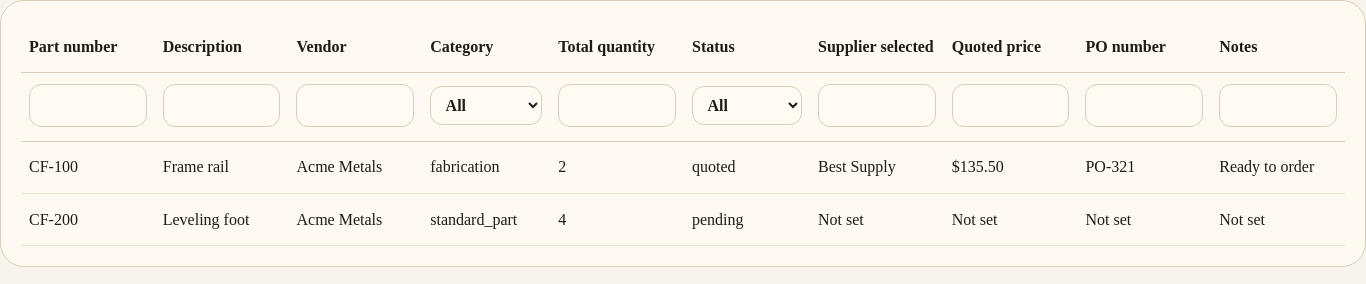
renders purchasing workflow fields and header filters directly in the table
Expected: the column heading "Status" is shown, [684,21,810,73]
Expected: the column heading "Supplier selected" is shown, [810,21,944,73]
Type "best" into the field named "supplier selected filter" at (877, 105), box [818,84,936,127]
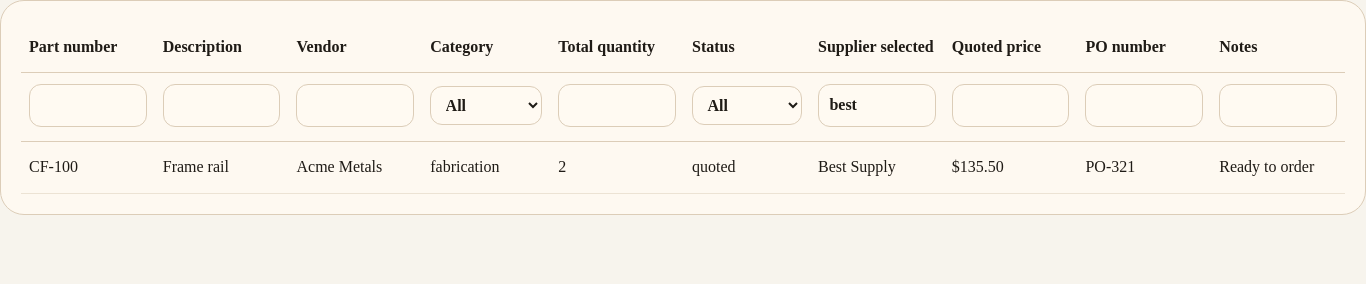
Expected: the text "CF-100" is shown, [21,141,155,194]
Expected: the text "CF-200" is gone
Clear the field named "supplier selected filter" at (877, 105), box [818,84,936,127]
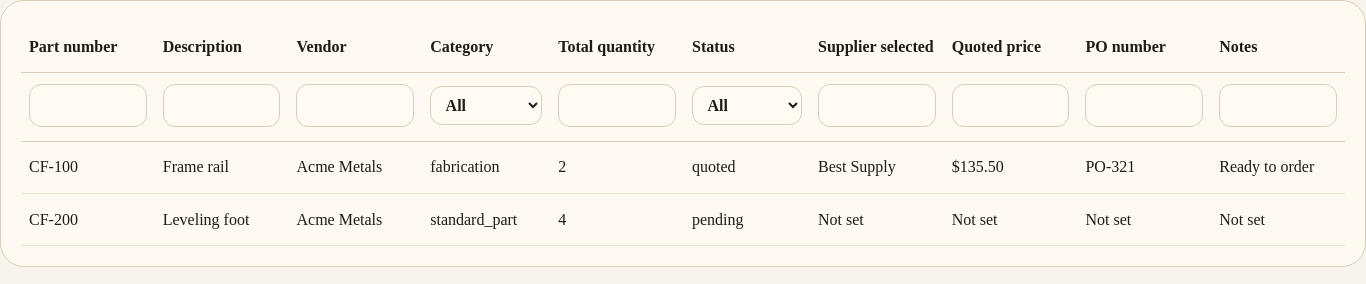
Select "pending" in the dropdown named "status filter" at (747, 105), box [692,86,802,125]
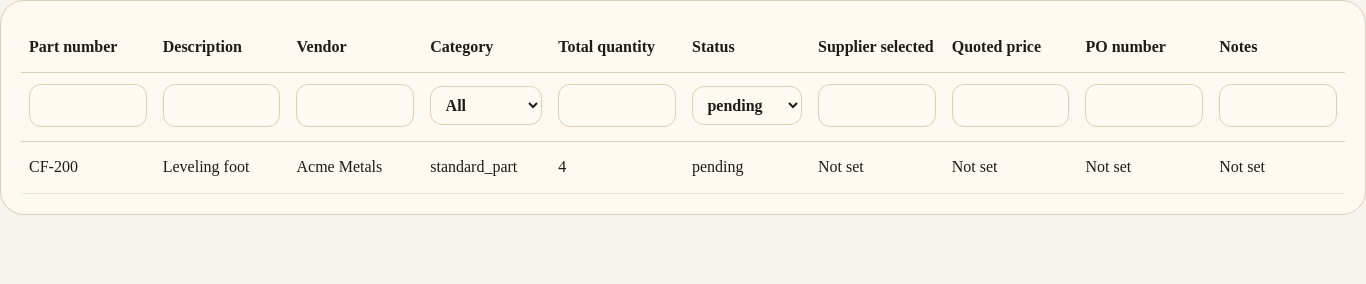
Expected: the text "CF-200" is shown, [21,141,155,194]
Expected: the text "CF-100" is gone
